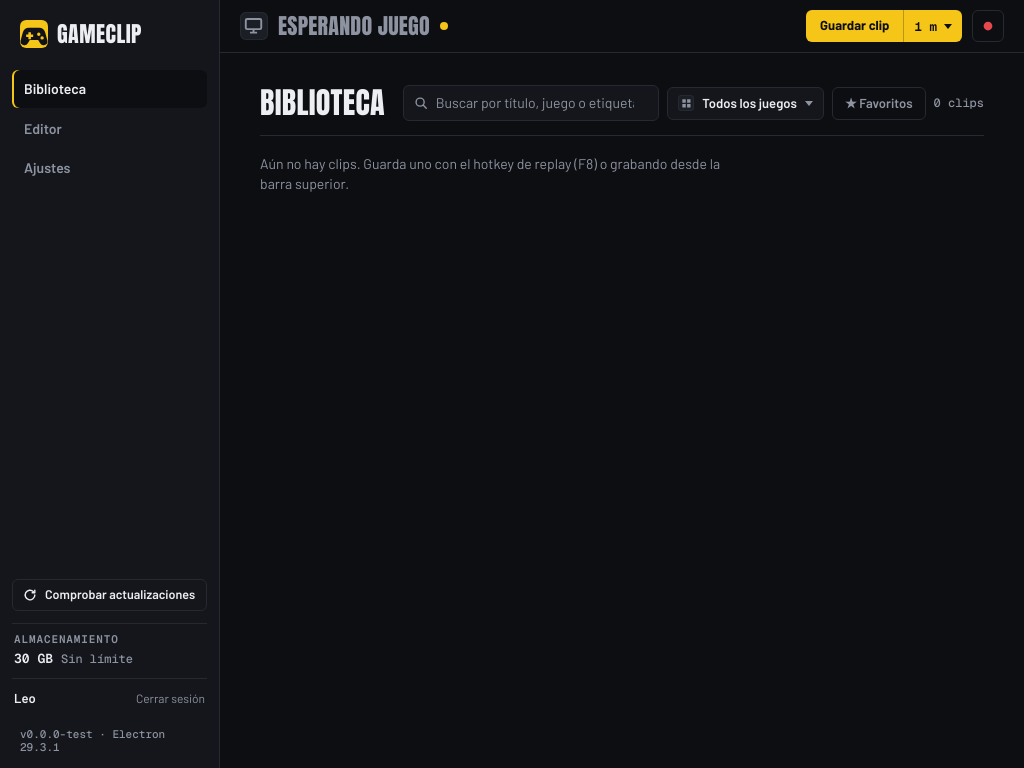
Test: Ajustes — Atajos › lista las acciones con la tecla que tienen configurada
What coordinates should you click on to do the following:
click the link "Ajustes"
I would click on:
 (47, 168)
Its box is [24,159,70,176].
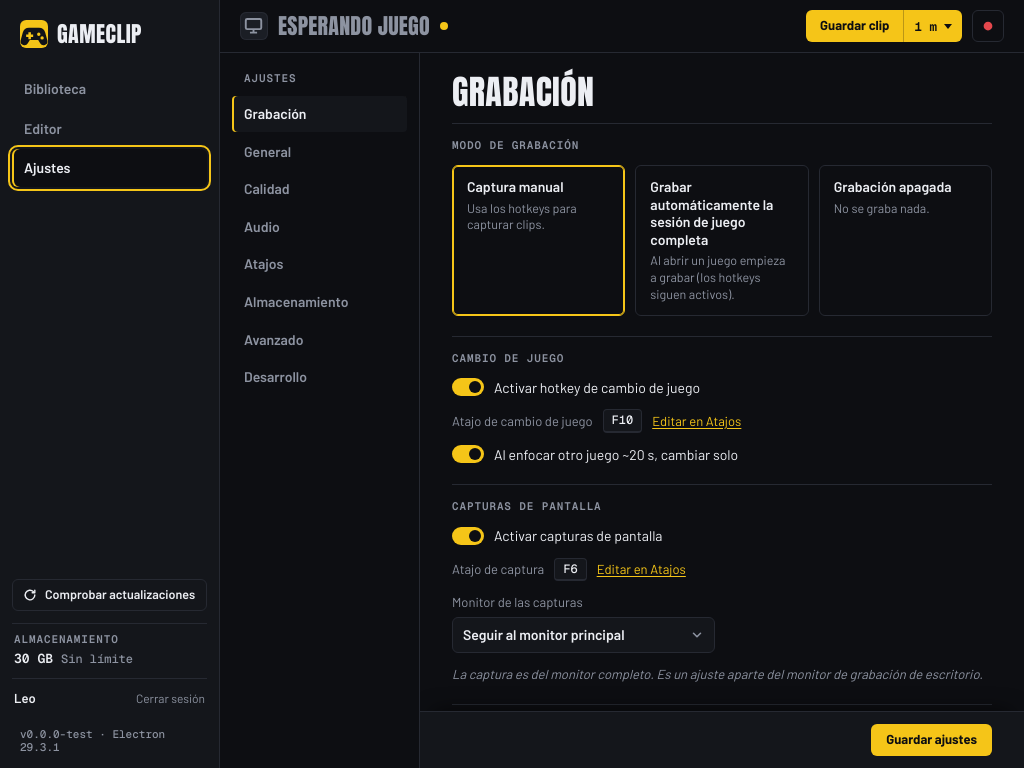
What coordinates should you click on to do the following:
click the link "Atajos"
I would click on:
 (264, 264)
Its box is [244,255,284,272].
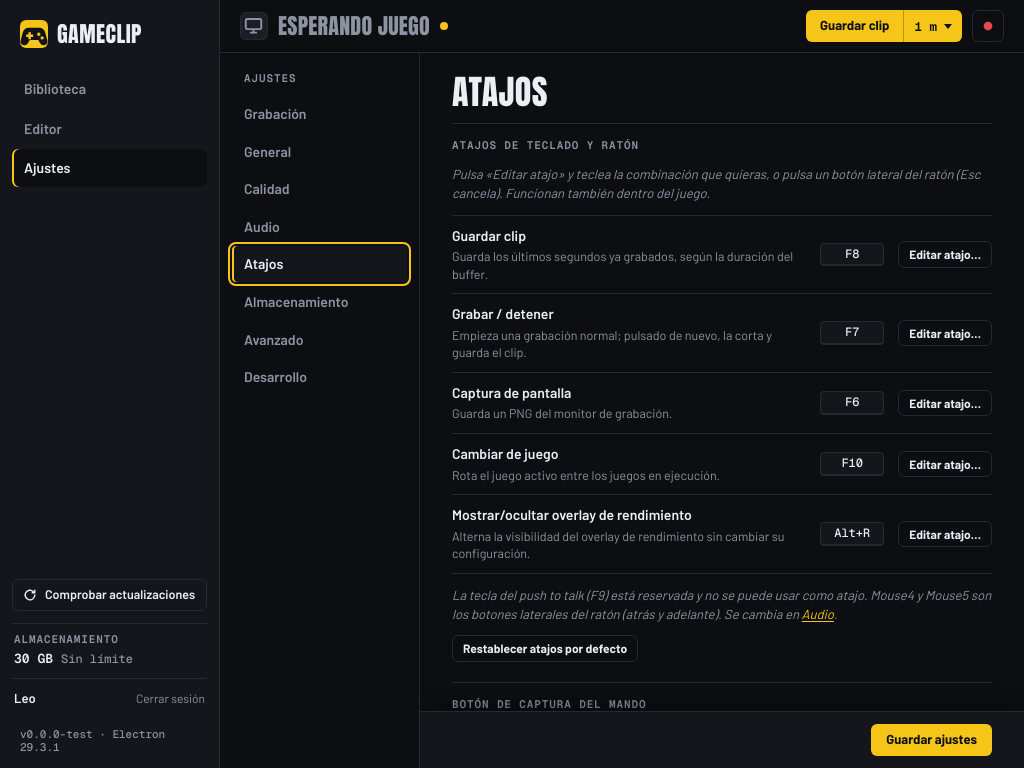
Check: the text "Atajos de teclado y ratón" is shown, box [452,138,639,152]
Check: the text "Guardar clip" is shown, box [452,227,526,244]
Check: the text "Grabar / detener" is shown, box [452,305,554,322]
